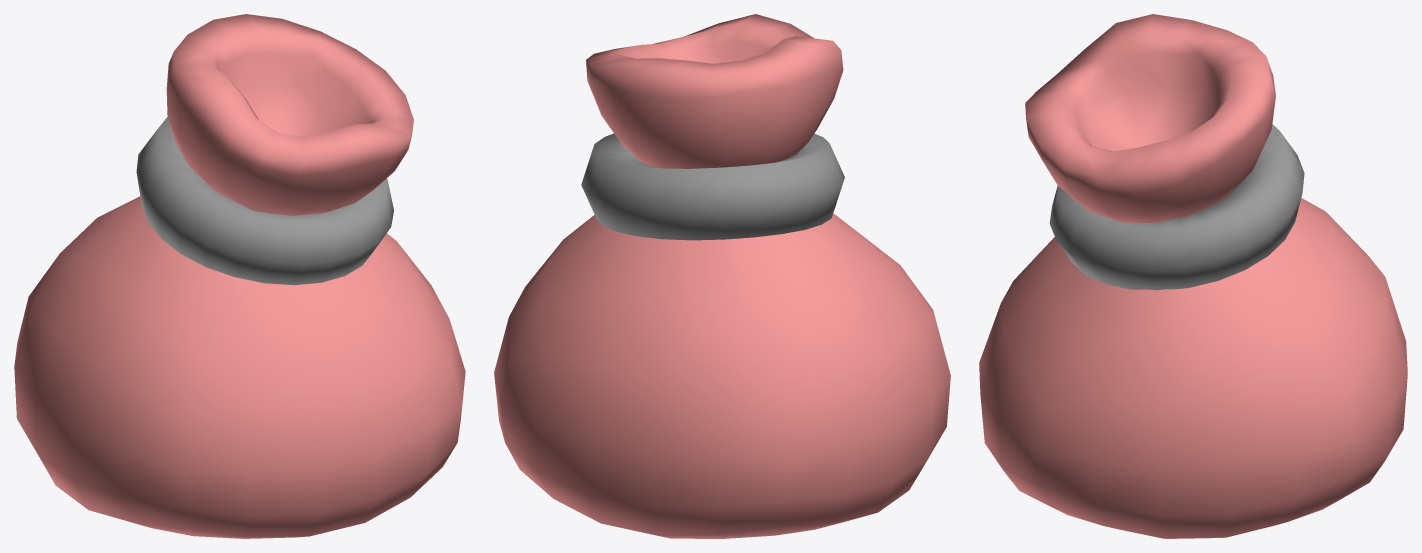
Rendered from DefaultItem.fbx.
3 views of the same model, side by side, from view 1: azimuth 30°, elevation 25°; view 2: azimuth 150°, elevation 25°; view 3: azimuth 270°, elevation 25° (orthographic). The views are drawn at different scales.
Parts seen in each view (by area): view 1: SM_DefaultItem; view 2: SM_DefaultItem; view 3: SM_DefaultItem.
Part boxes in pixels (bbox=[...]): SM_DefaultItem: bbox=[14, 14, 465, 538]; SM_DefaultItem: bbox=[494, 14, 950, 538]; SM_DefaultItem: bbox=[979, 14, 1407, 538].
Size of the model in its own units: 83.84 by 91.45 by 82.96.
